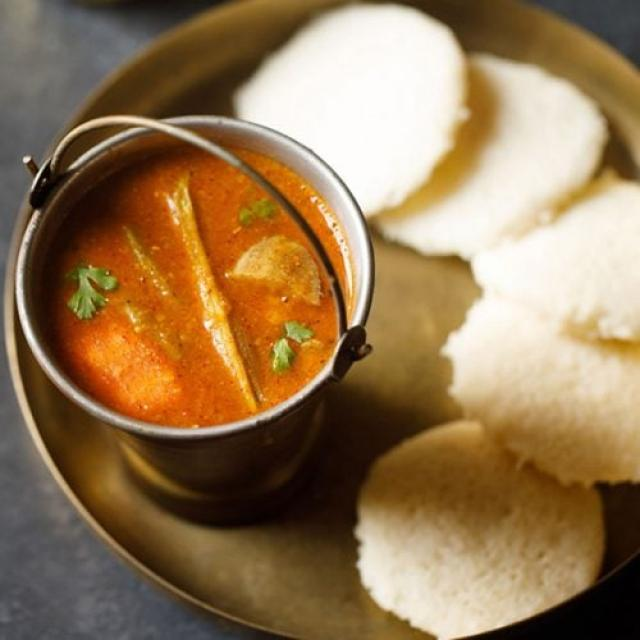IDLI: (444, 184, 639, 483), (357, 421, 604, 639), (233, 4, 465, 215), (380, 55, 608, 259)
